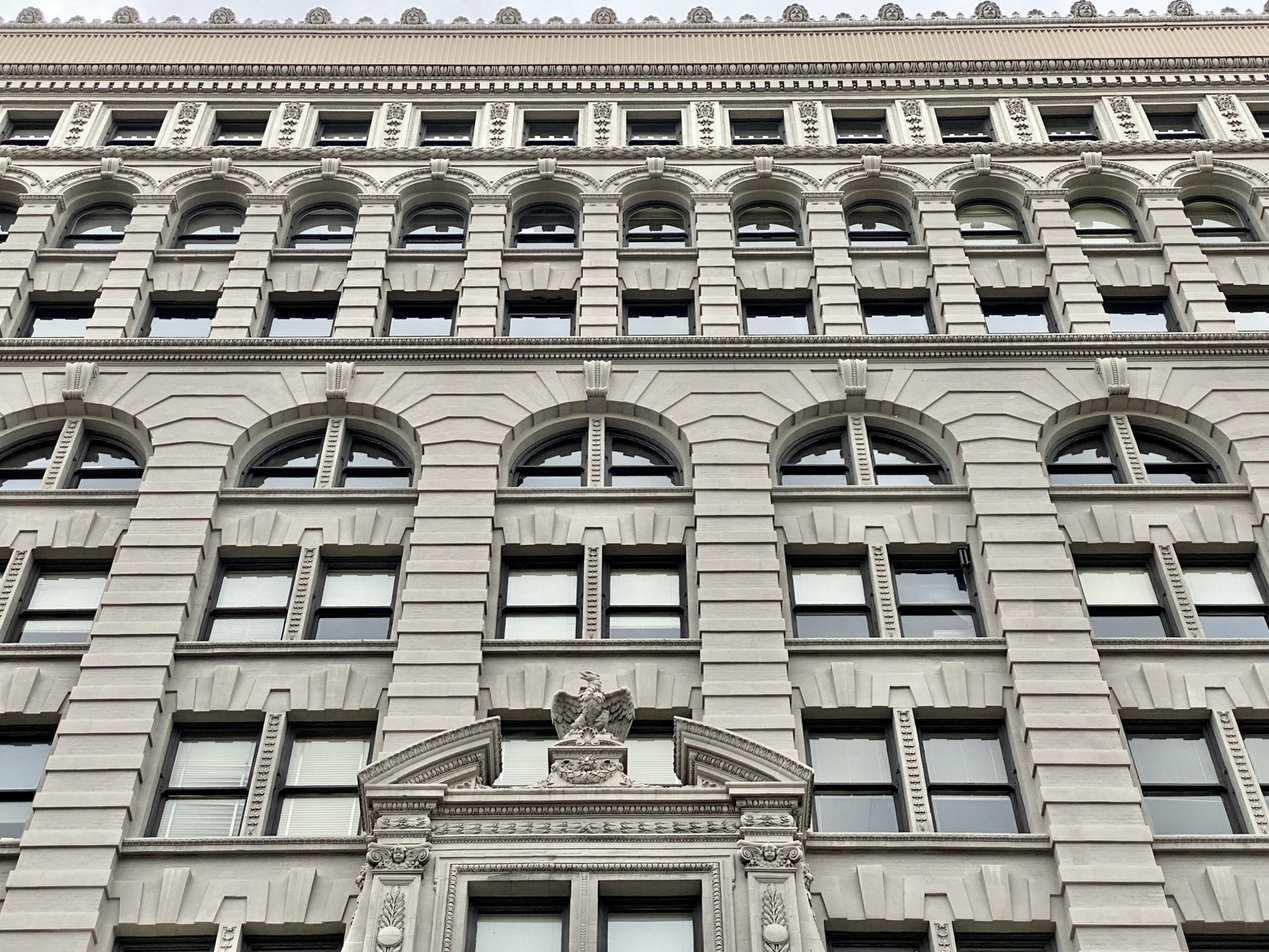fachada: (3, 24, 1264, 952)
